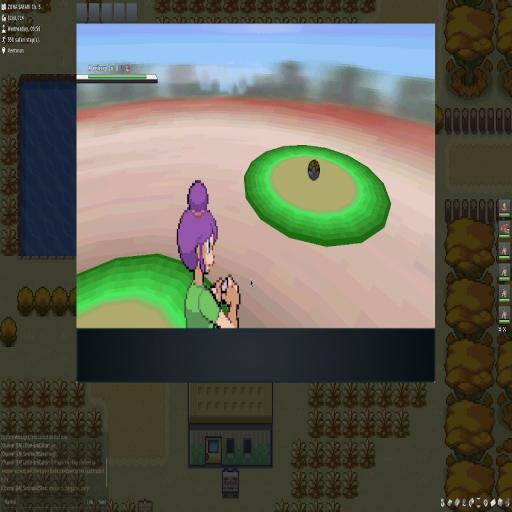SUCESSFULCAPTURE: (308, 159, 320, 181)
